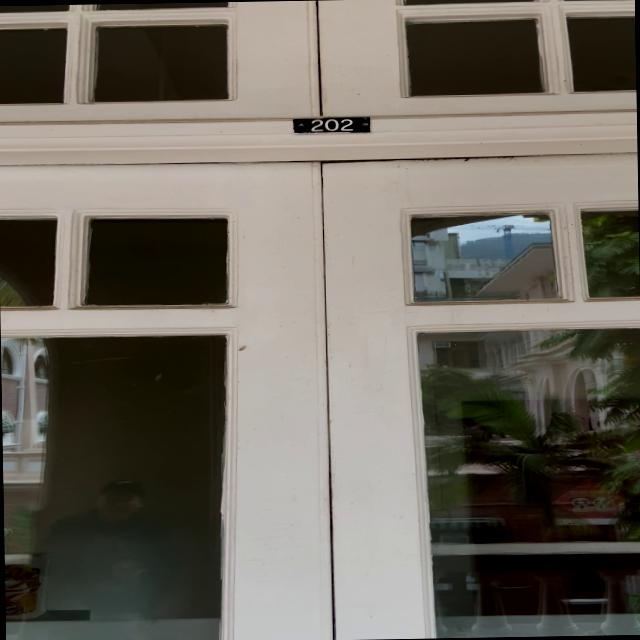room202: (286, 112, 378, 136)
